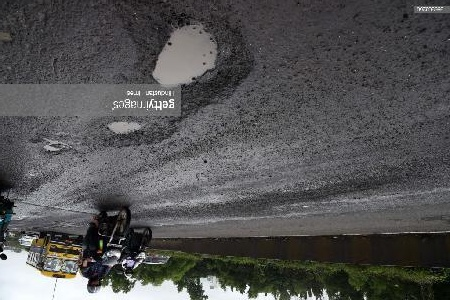pothole: (118, 0, 256, 108), (91, 115, 182, 150), (36, 133, 74, 156)
